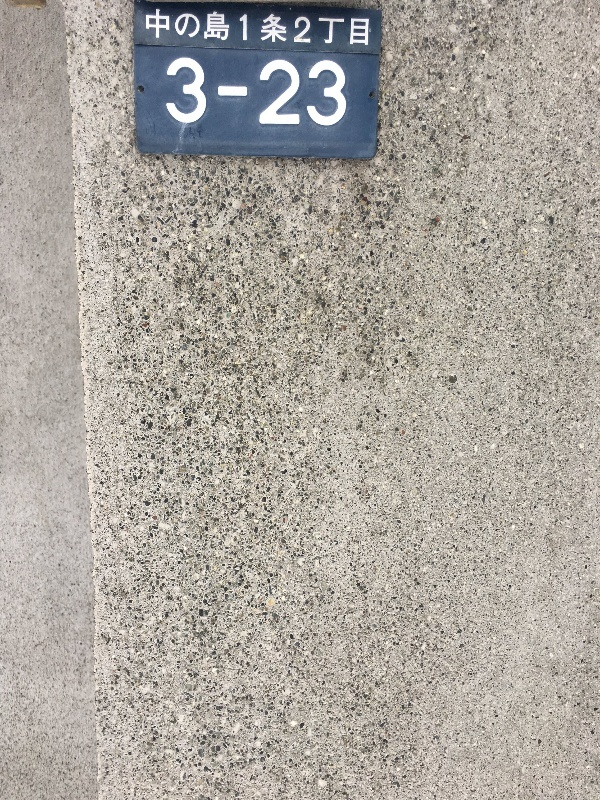text: (177, 58, 192, 131), (193, 58, 208, 131), (209, 58, 224, 131), (225, 58, 240, 131), (241, 58, 256, 131), (257, 58, 272, 131), (273, 58, 288, 131), (289, 58, 304, 131), (305, 58, 320, 131), (321, 58, 336, 131), (337, 58, 348, 131), (167, 58, 176, 131), (145, 7, 160, 48), (161, 7, 176, 48), (177, 7, 192, 48), (193, 7, 208, 48), (209, 7, 224, 48), (225, 7, 240, 48), (241, 7, 256, 48), (257, 7, 272, 48), (273, 7, 288, 48), (289, 7, 304, 48), (305, 7, 320, 48), (321, 7, 336, 48), (337, 7, 352, 48), (353, 7, 368, 48), (142, 7, 144, 48), (369, 7, 371, 48)
